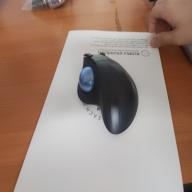mouse: (77, 50, 138, 134)
